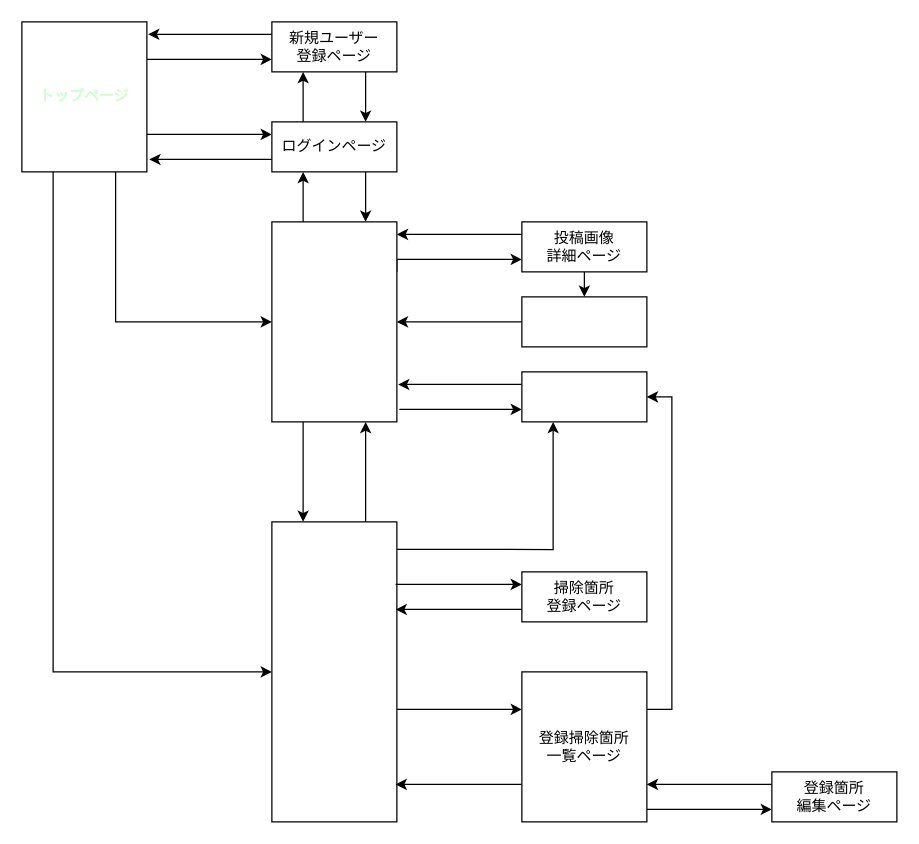
This 919x844 diagram has some shape labels left out. Each missing label, with the centre of its shape:
"投稿画像 編集ページ" belongs at point (584, 321).
"投稿画像の トップページ" belongs at point (334, 321).
"掃除提案の トップページ" belongs at point (334, 671).
"新規画像 投稿ページ" belongs at point (584, 396).
